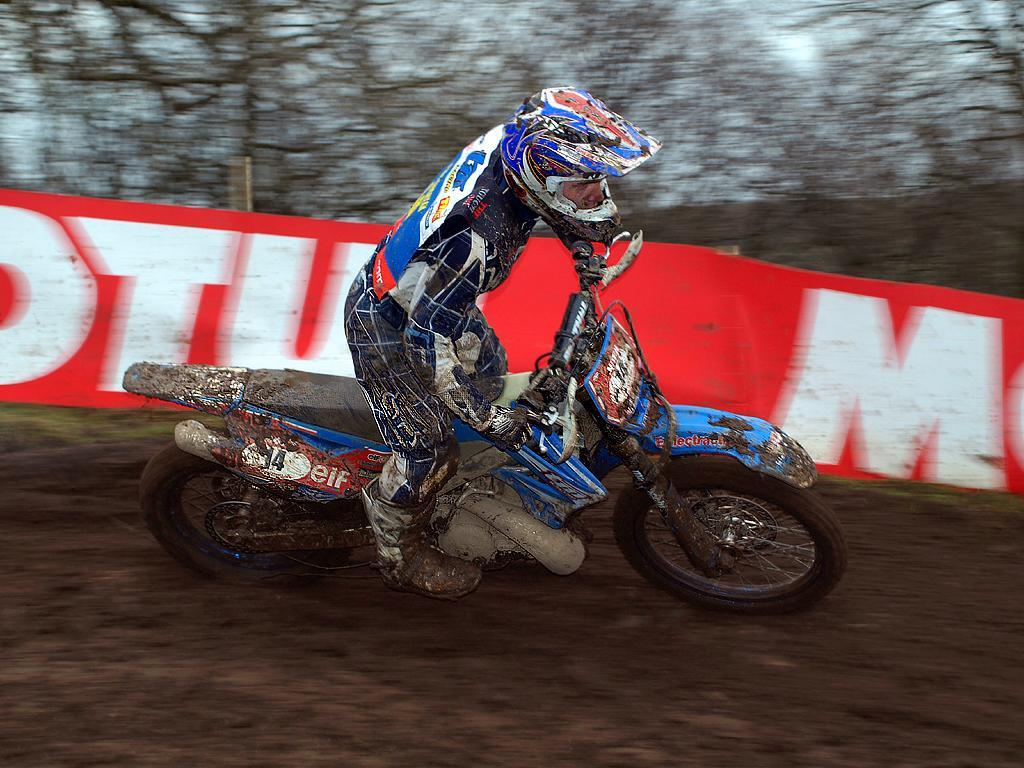helmet: (498, 85, 665, 244)
